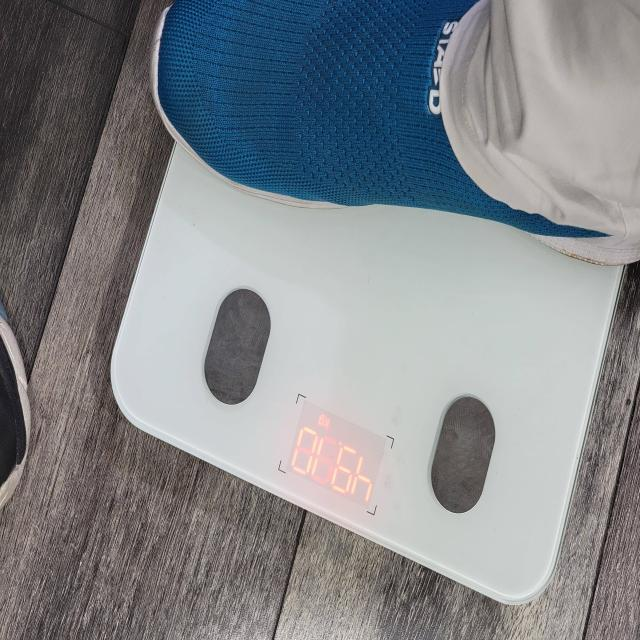ws: (119, 151, 594, 601)
